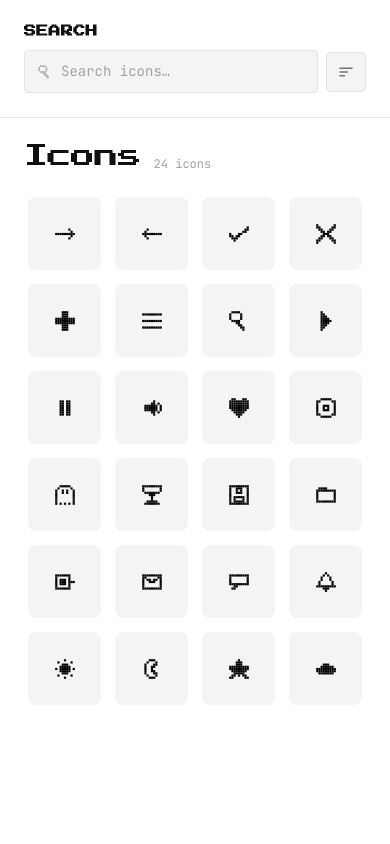
Test: filter sheet › does not exist until the Filters button is pressed
Click the button named "Filters" at [346, 72], box [326,52,366,92]
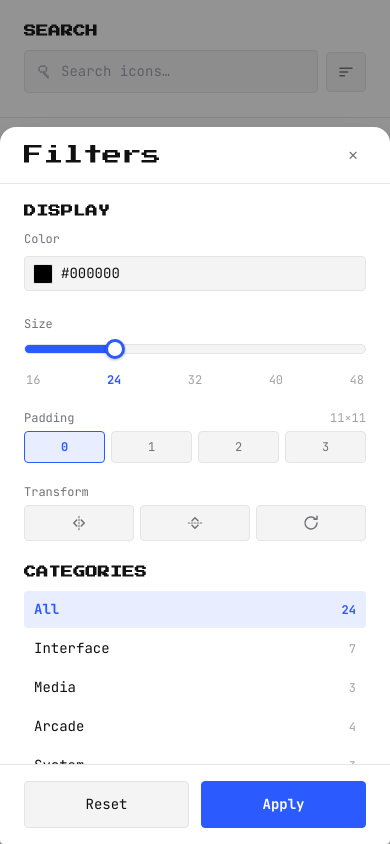
Now the button "Apply" is shown, box [201,781,366,828]
Now the button "Reset" is shown, box [24,781,189,828]
